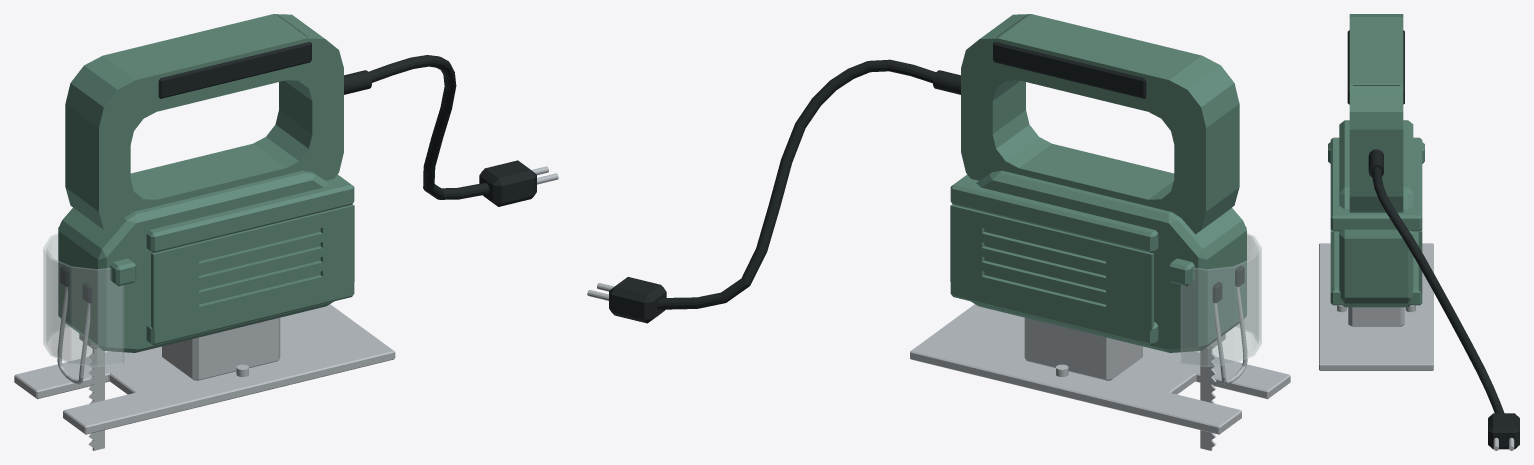
File: full.glb
The picture shows the model from 3 angles, left to right: view 1: azimuth 30°, elevation 25°; view 2: azimuth 150°, elevation 25°; view 3: azimuth 270°, elevation 25°; orthographic projection. The views are drawn at different scales.
Visible parts, largest first — view 1: D shaped open upper handle, Motor core and end housings, Open front U shoe, Open vent side skin -1, Curved translucent front cover, Side skin fixed bridge 0.125, Central metal shoe pedestal, Side skin fixed bridge 0.061, Upper dark grip, Complete authored power cable, Generic closed cable plug, Short static toothed blade (+3 smaller); view 2: D shaped open upper handle, Motor core and end housings, Open front U shoe, Open vent side skin 1, Curved translucent front cover, Side skin fixed bridge 0.125, Complete authored power cable, Central metal shoe pedestal, Side skin fixed bridge 0.061, Upper dark grip, Generic closed cable plug, Short static toothed blade (+1 smaller); view 3: D shaped open upper handle, Open front U shoe, Motor core and end housings, Side skin fixed bridge 0.125, Complete authored power cable, Side skin fixed bridge 0.061, Central metal shoe pedestal, Generic closed cable plug, Upper dark grip, Rear cord strain relief, Open vent side skin -1, Open vent side skin 1.
Boxes of the visible parts, bbox=[...] form: D shaped open upper handle: bbox=[65, 14, 343, 234]; Motor core and end housings: bbox=[58, 170, 333, 352]; Open front U shoe: bbox=[14, 304, 395, 434]; Open vent side skin -1: bbox=[151, 204, 354, 330]; Curved translucent front cover: bbox=[43, 233, 123, 366]; Side skin fixed bridge 0.125: bbox=[146, 174, 354, 252]; Central metal shoe pedestal: bbox=[162, 317, 280, 380]; Side skin fixed bridge 0.061: bbox=[146, 281, 354, 345]; Upper dark grip: bbox=[158, 15, 311, 98]; Complete authored power cable: bbox=[368, 55, 489, 199]; Generic closed cable plug: bbox=[479, 160, 536, 206]; Short static toothed blade: bbox=[88, 348, 104, 450]; D shaped open upper handle: bbox=[961, 14, 1239, 234]; Motor core and end housings: bbox=[971, 170, 1246, 352]; Open front U shoe: bbox=[910, 304, 1290, 434]; Open vent side skin 1: bbox=[950, 204, 1153, 330]; Curved translucent front cover: bbox=[1181, 233, 1261, 366]; Side skin fixed bridge 0.125: bbox=[950, 174, 1158, 252]; Complete authored power cable: bbox=[657, 59, 935, 309]; Central metal shoe pedestal: bbox=[1024, 317, 1142, 380]; Side skin fixed bridge 0.061: bbox=[950, 281, 1158, 345]; Upper dark grip: bbox=[993, 15, 1146, 98]; Generic closed cable plug: bbox=[609, 277, 666, 323]; Short static toothed blade: bbox=[1200, 348, 1216, 450]; D shaped open upper handle: bbox=[1349, 14, 1403, 212]; Open front U shoe: bbox=[1319, 243, 1433, 370]; Motor core and end housings: bbox=[1339, 120, 1413, 307]; Side skin fixed bridge 0.125: bbox=[1330, 137, 1422, 231]; Complete authored power cable: bbox=[1372, 167, 1504, 413]; Side skin fixed bridge 0.061: bbox=[1330, 231, 1422, 305]; Central metal shoe pedestal: bbox=[1348, 307, 1404, 326]; Generic closed cable plug: bbox=[1488, 413, 1519, 449]; Upper dark grip: bbox=[1347, 30, 1404, 104]; Rear cord strain relief: bbox=[1368, 149, 1383, 177]; Open vent side skin -1: bbox=[1330, 229, 1334, 293]; Open vent side skin 1: bbox=[1418, 229, 1422, 293].
Size of the model in its own units: 0.4227 by 0.261 by 0.1575.
